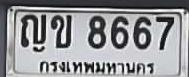6: (110, 15, 128, 48), (133, 16, 150, 48)
7: (155, 16, 173, 49)
8: (87, 15, 105, 48)
A02: (50, 14, 71, 47)
A13: (20, 12, 47, 52)
BKK: (38, 57, 157, 76)
